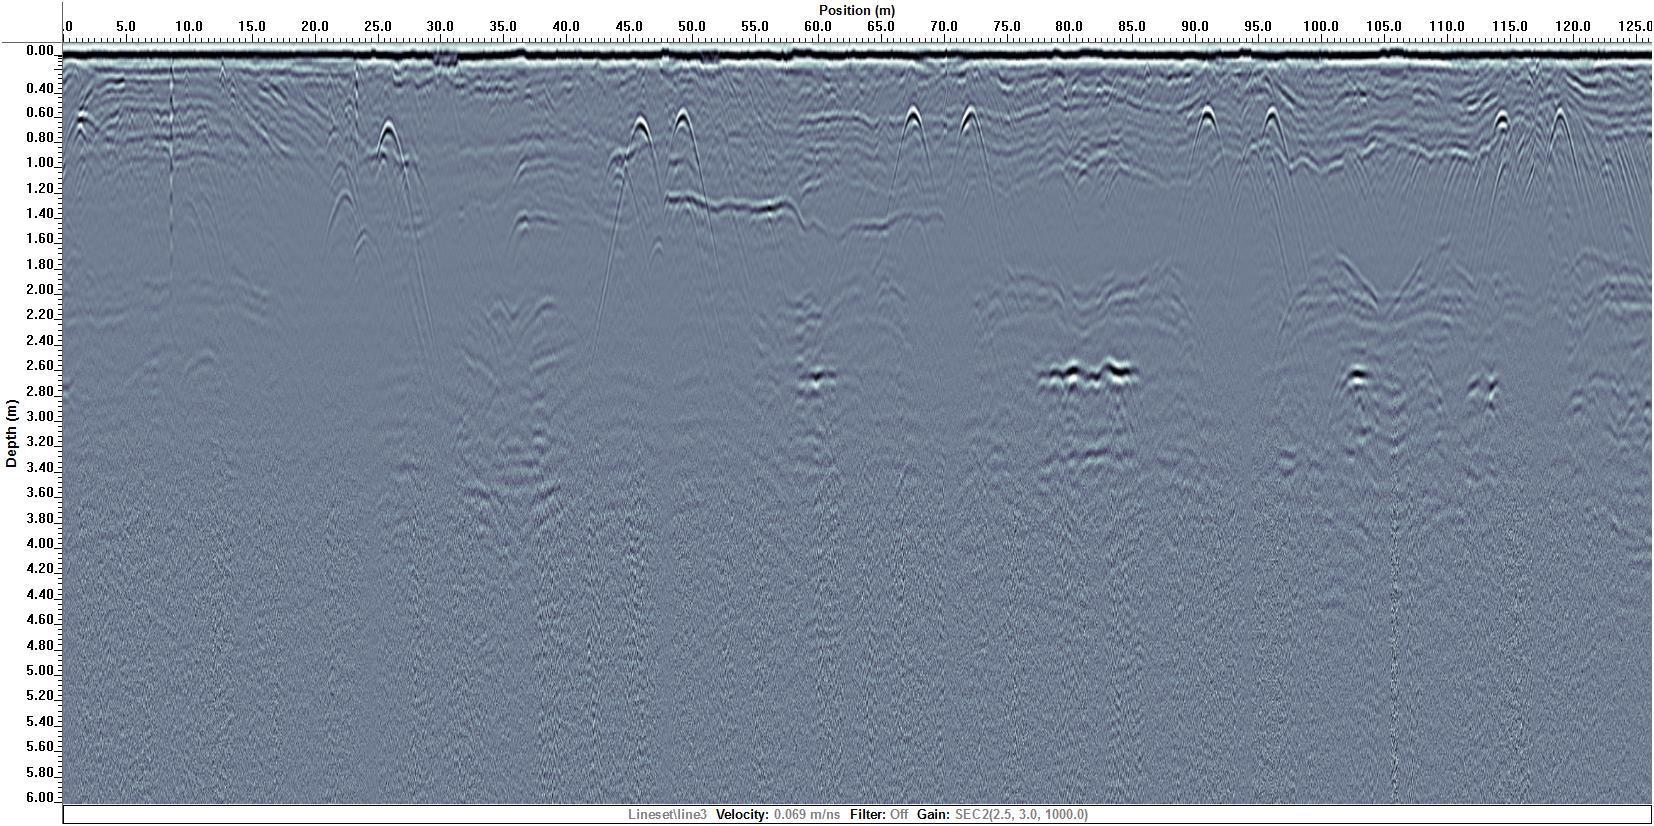hyperbola: (1259, 109, 1290, 172), (666, 109, 696, 172), (958, 105, 988, 168), (1547, 105, 1577, 169), (895, 107, 924, 170), (624, 113, 654, 176), (372, 118, 402, 181), (1489, 105, 1519, 168), (1193, 105, 1223, 168)
